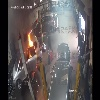fire: (23, 32, 39, 71)
